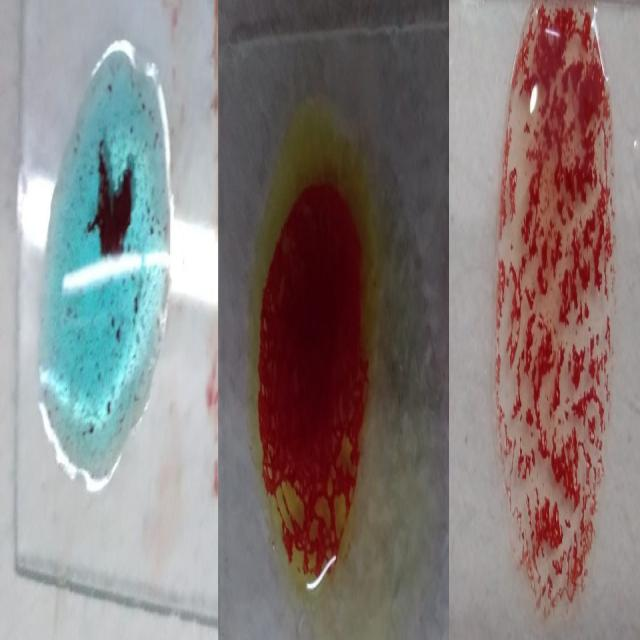A: (44, 32, 175, 510)
B: (254, 92, 382, 610)
D: (502, 18, 609, 604)
